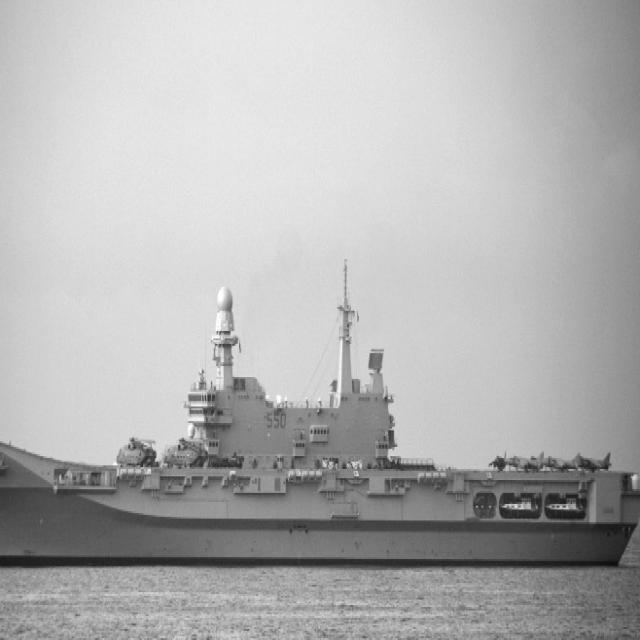Portanaves: (1, 251, 640, 577)
